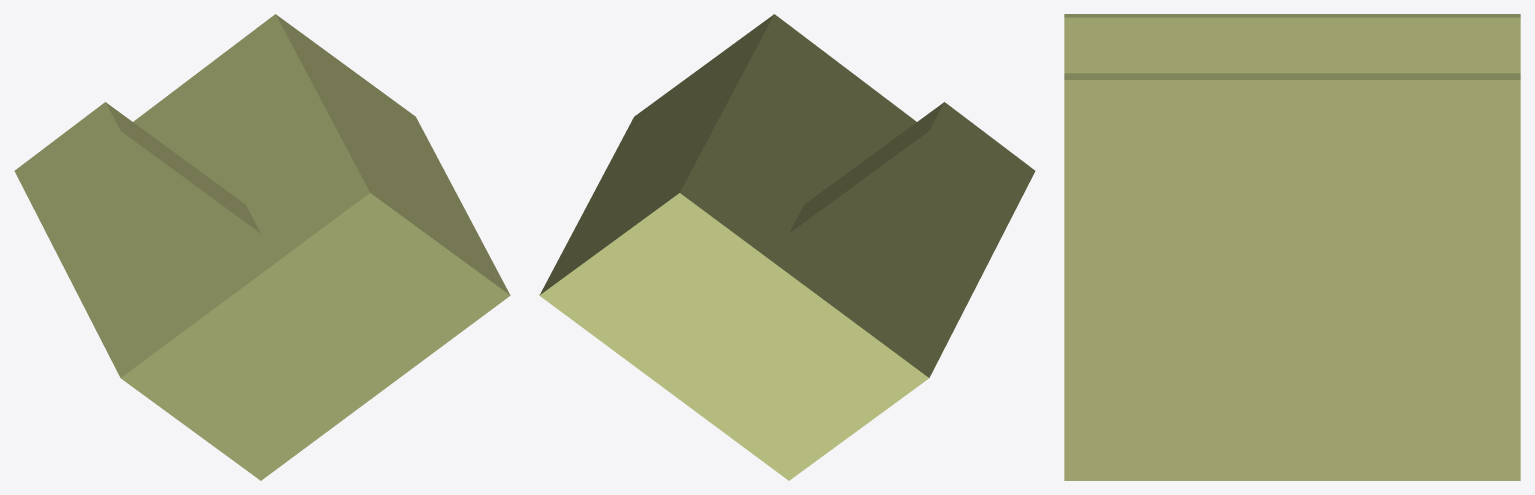
The picture shows the model from 3 angles, left to right: view 1: azimuth 30°, elevation 25°; view 2: azimuth 150°, elevation 25°; view 3: azimuth 270°, elevation 25°; orthographic projection. The views are drawn at different scales.
Parts seen in each view (by area): view 1: 0_1_1_3_2_1_3_3_0_2; view 2: 0_1_1_3_2_1_3_3_0_2; view 3: 0_1_1_3_2_1_3_3_0_2.
Boxes of the visible parts, box(x1,y1,x2,y2) form: 0_1_1_3_2_1_3_3_0_2: box(14, 14, 510, 480); 0_1_1_3_2_1_3_3_0_2: box(539, 14, 1035, 480); 0_1_1_3_2_1_3_3_0_2: box(1064, 14, 1520, 480).
Bounding box in the file's own units: 13.17 × 11.55 × 9.
